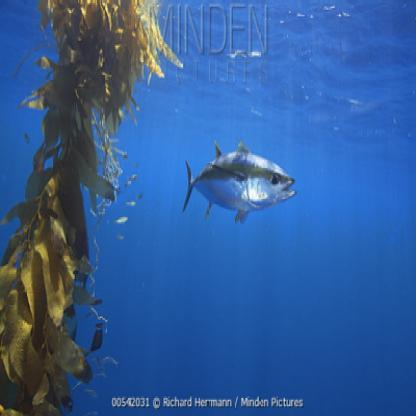Bio: (180, 136, 296, 226)
